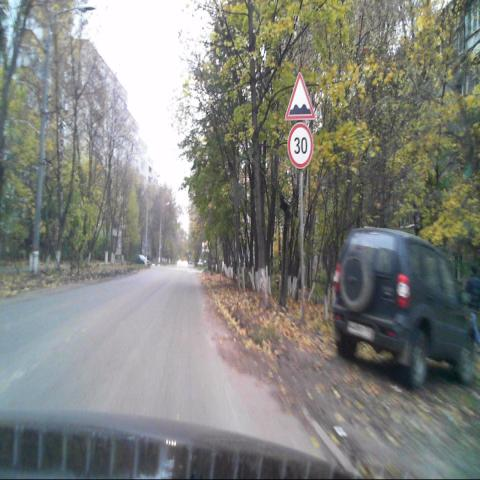1_16: (285, 70, 316, 120)
